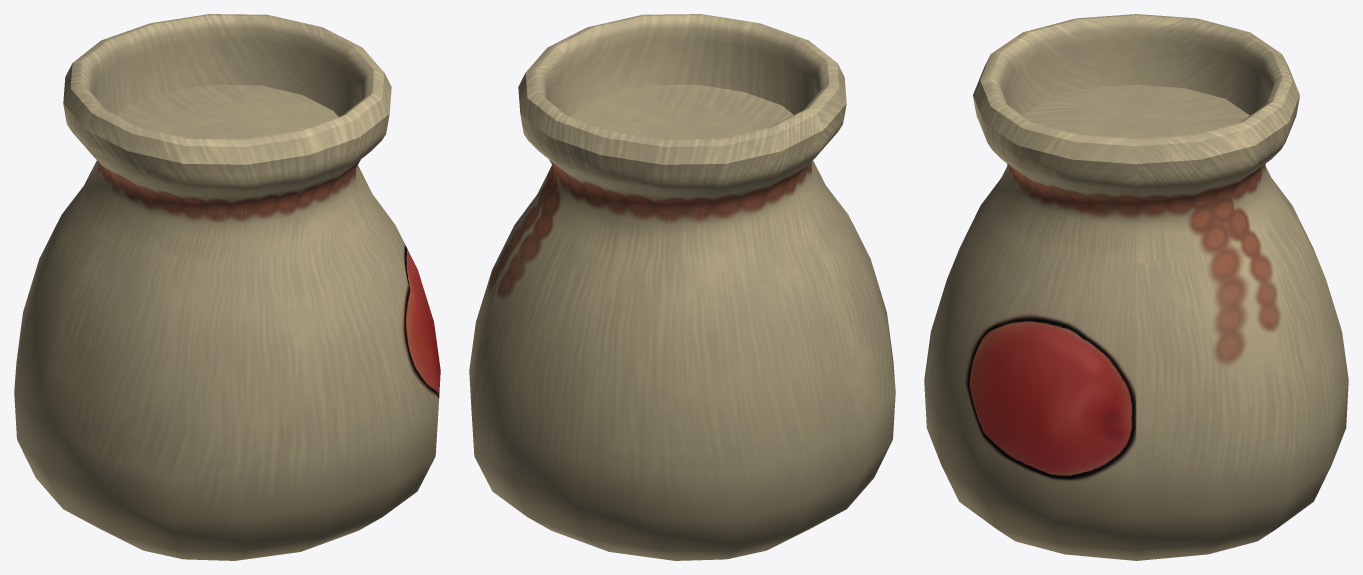
File: Model_TexturaSacoAberto1Cafe_v1.fbx
The picture shows the model from 3 angles, left to right: view 1: azimuth 30°, elevation 25°; view 2: azimuth 150°, elevation 25°; view 3: azimuth 270°, elevation 25°; orthographic projection.
Parts seen in each view (by area): view 1: saco cheio; view 2: saco cheio; view 3: saco cheio.
Part boxes in pixels (<box>): saco cheio: <box>14,14,440,560</box>; saco cheio: <box>469,14,895,560</box>; saco cheio: <box>924,14,1348,560</box>.
Size of the model in its own units: 236 by 268 by 236.
